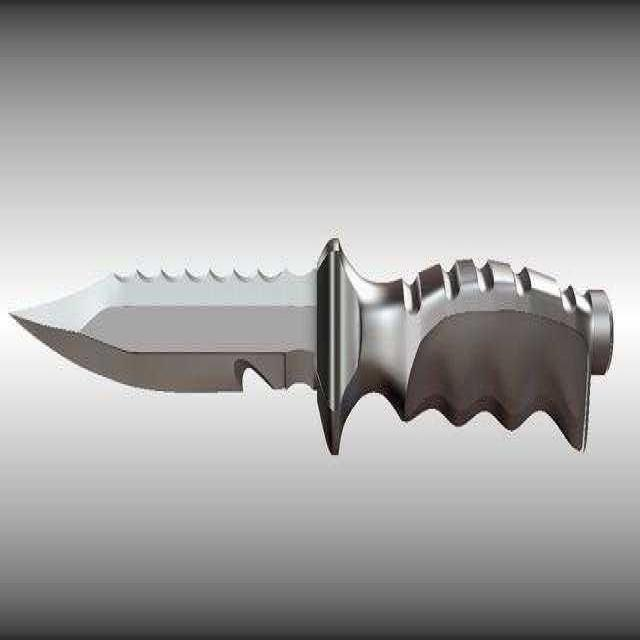knife: (0, 259, 625, 461)
